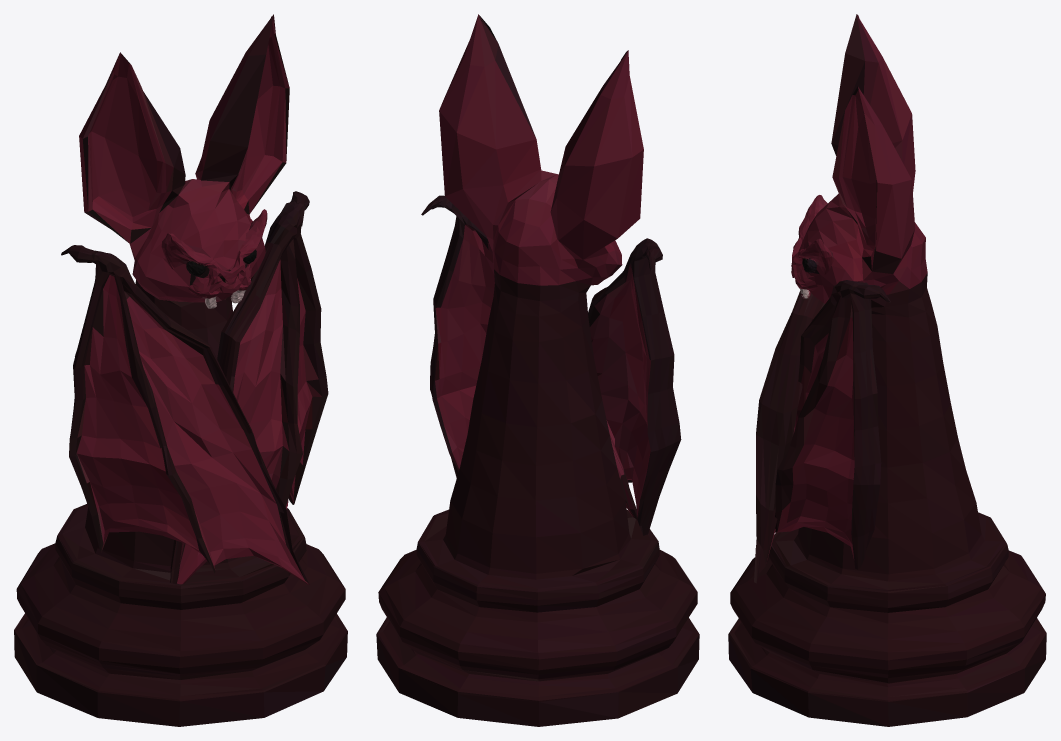
The model's file is chauve_souris.glb.
3 views of the same model, side by side, from view 1: azimuth 30°, elevation 25°; view 2: azimuth 150°, elevation 25°; view 3: azimuth 270°, elevation 25° (orthographic). The views are drawn at different scales.
Parts seen in each view (by area): view 1: mesh_node; view 2: mesh_node; view 3: mesh_node.
Part boxes in pixels (<box>): mesh_node: <box>14,14,347,726</box>; mesh_node: <box>376,14,699,726</box>; mesh_node: <box>728,14,1046,726</box>.
Bounding box in the file's own units: 0.4756 × 1 × 0.4736.
